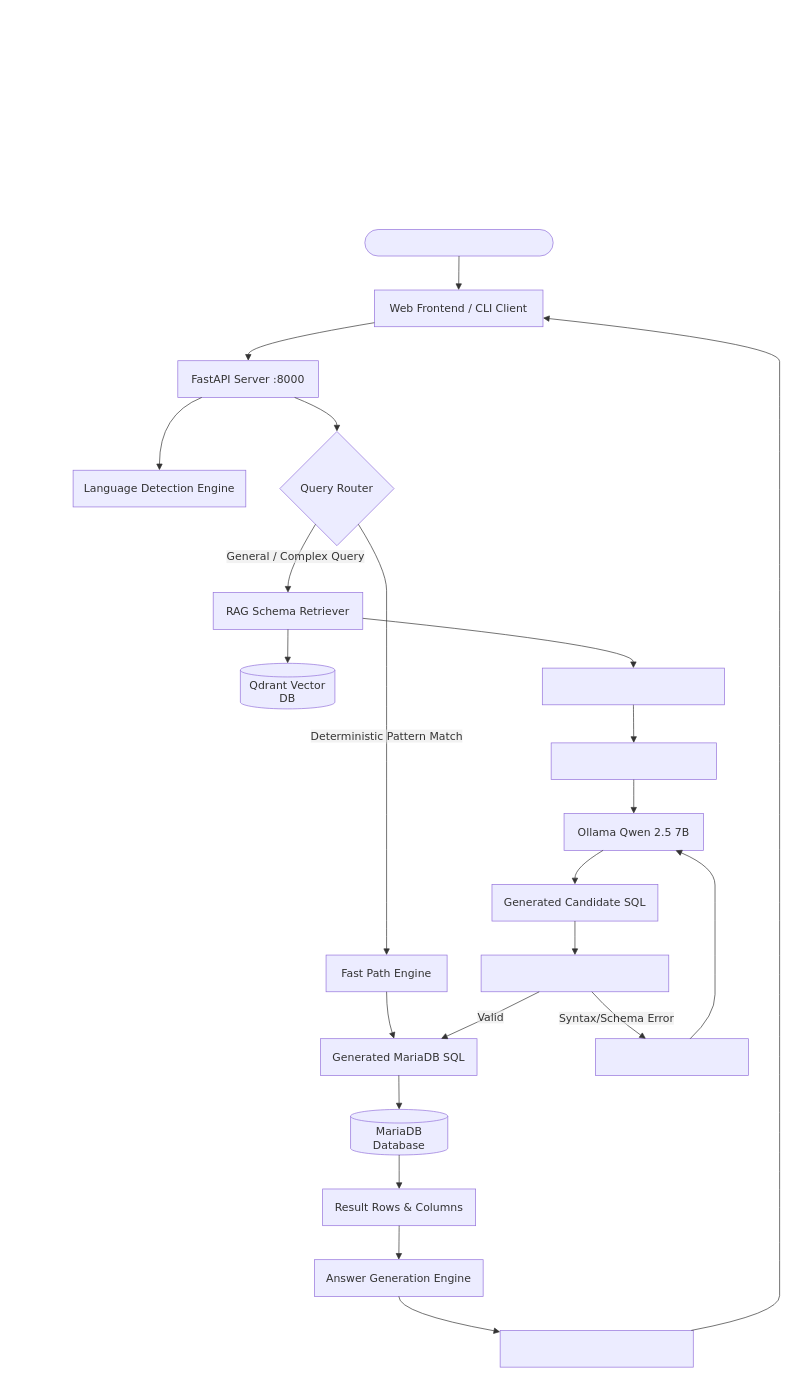
The diagram is 792 pixels wide and 1379 high, and some of its shapes have lost their labels. The shapes that lost their labels are listed below. From the top down, each one's centre as x and y in pixels, then its label:
At pixel 458 242: "User Prompt: English / Roman Urdu".
At pixel 633 686: "Schema Dependency Injector".
At pixel 633 761: "Enriched Schema Context".
At pixel 574 973: "Safety & Validation Guardrails".
At pixel 671 1056: "Self-Correction Prompt".
At pixel 596 1348: "Formatted Answer + Data Table".
